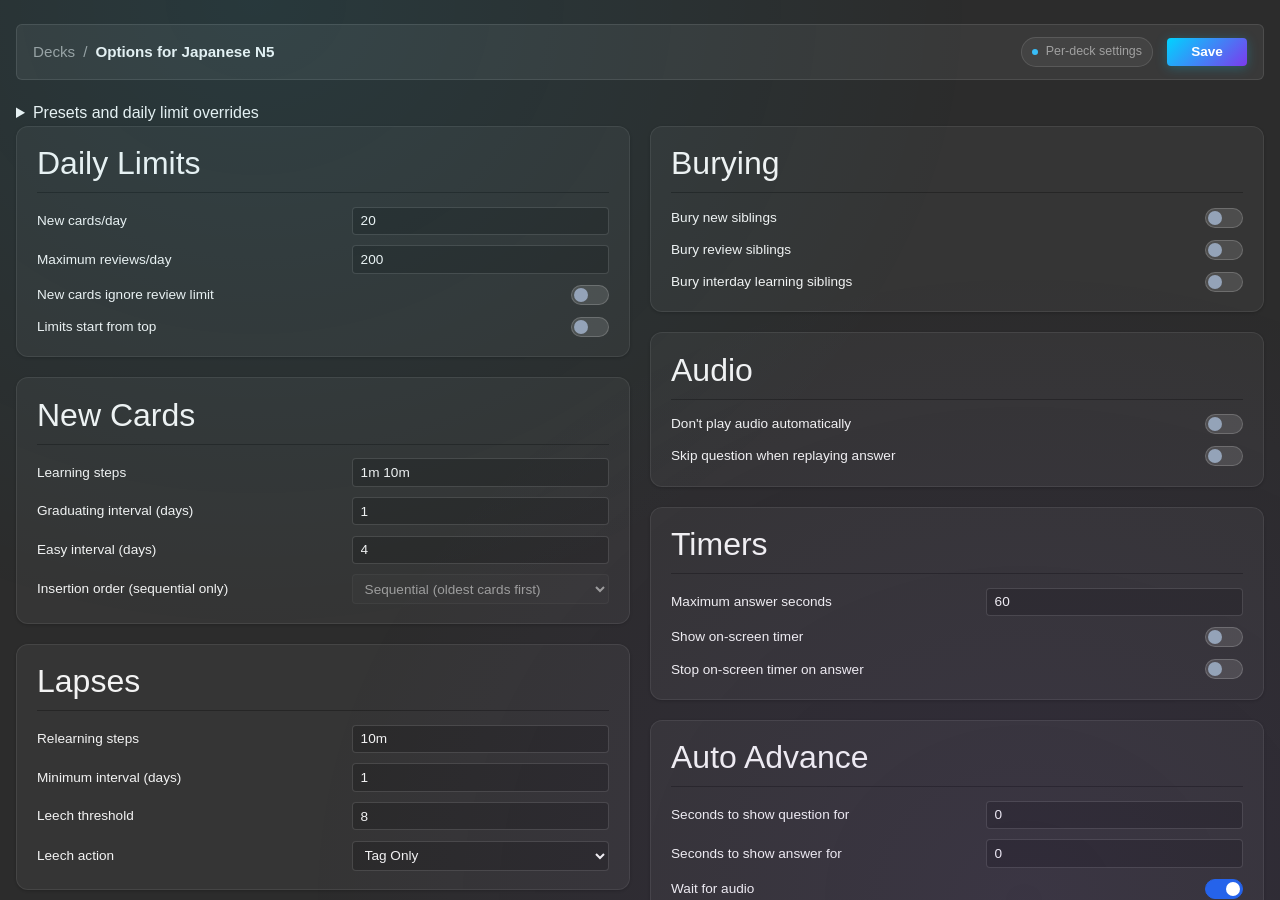
Test case: DeckOptionsPage Component › validates invalid numeric and step inputs, disabling save and displaying inline errors
Expected: the text "Options for Japanese N5" is shown, [95,40,274,64]
Expected: the button "Save" is enabled, [1167,38,1247,66]
Enter negative number for new_cards_per_day
Replace the text in the number field labelled "New cards/day" with "-5": x=480, y=221 [352,207,609,235]
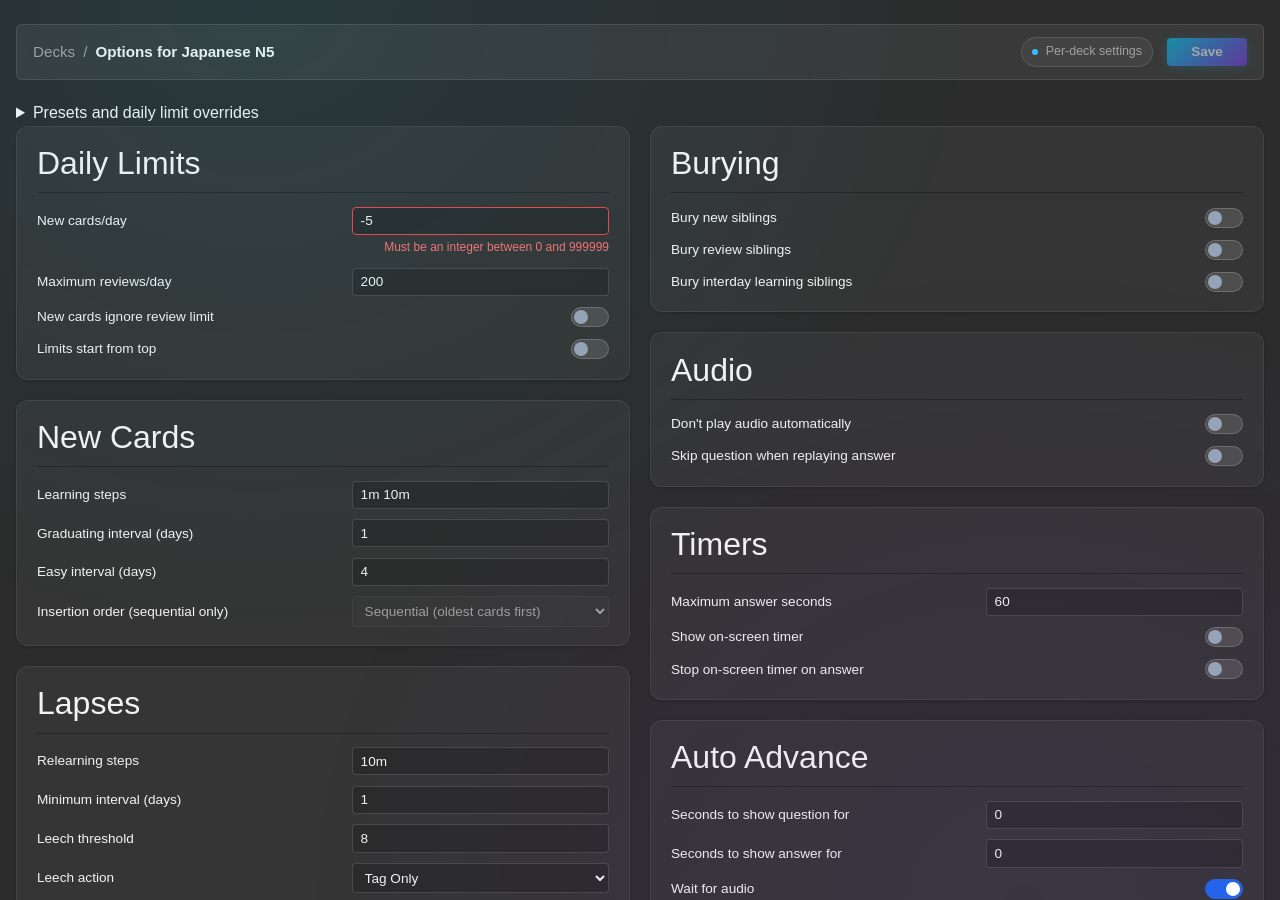
Expected: the text "Must be an integer between 0 and 999999" is shown, [384,238,609,257]
Expected: the button "Save" is disabled, [1167,38,1247,66]
Restore valid number
Replace the text in the number field labelled "New cards/day" with "25": x=480, y=221 [352,207,609,235]
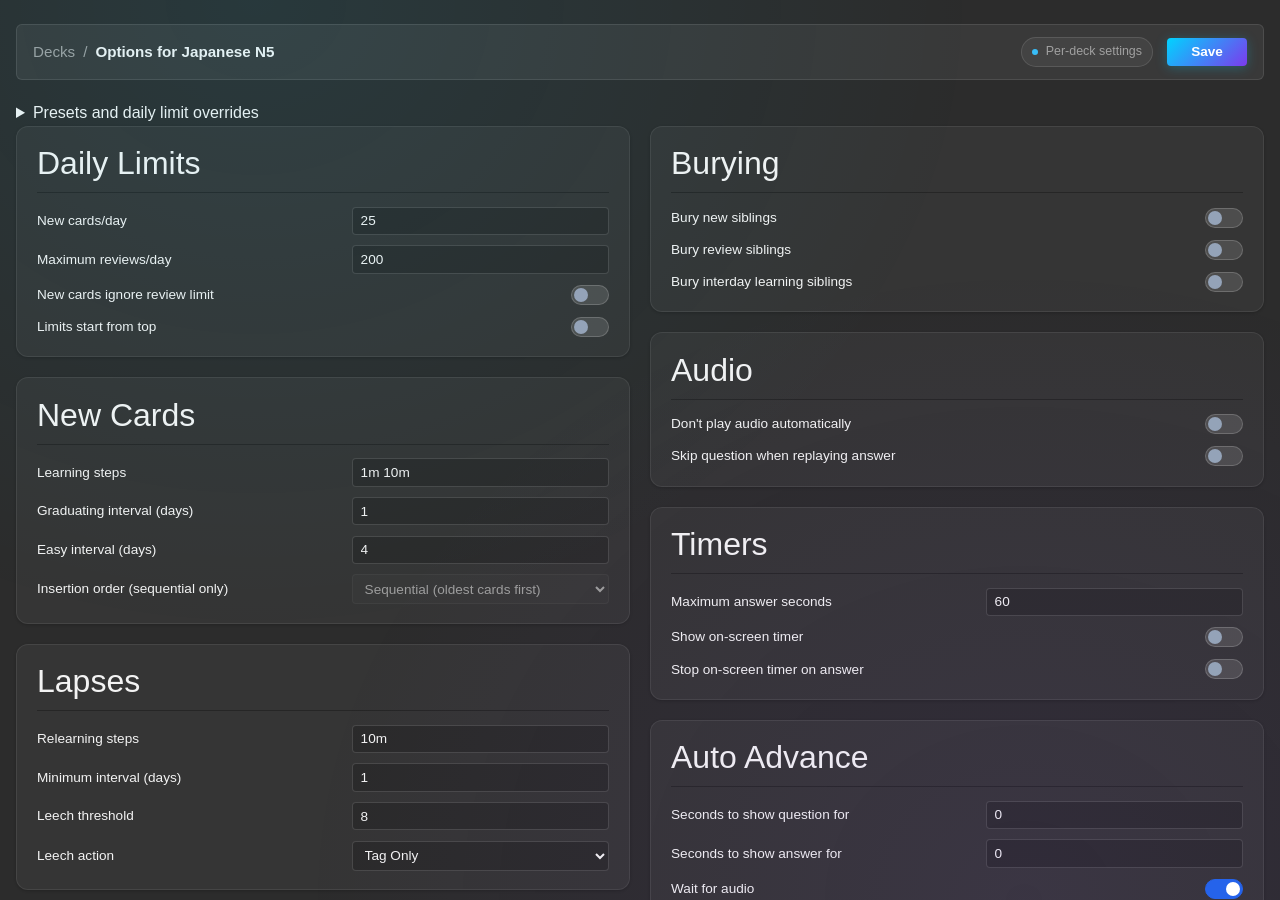
Expected: the text "Must be an integer between 0 and 999999" is gone
Expected: the button "Save" is enabled, [1167,38,1247,66]
Enter invalid step format for learning steps
Replace the text in the field labelled "Learning steps" with "invalid_interval": x=480, y=472 [352,458,609,486]
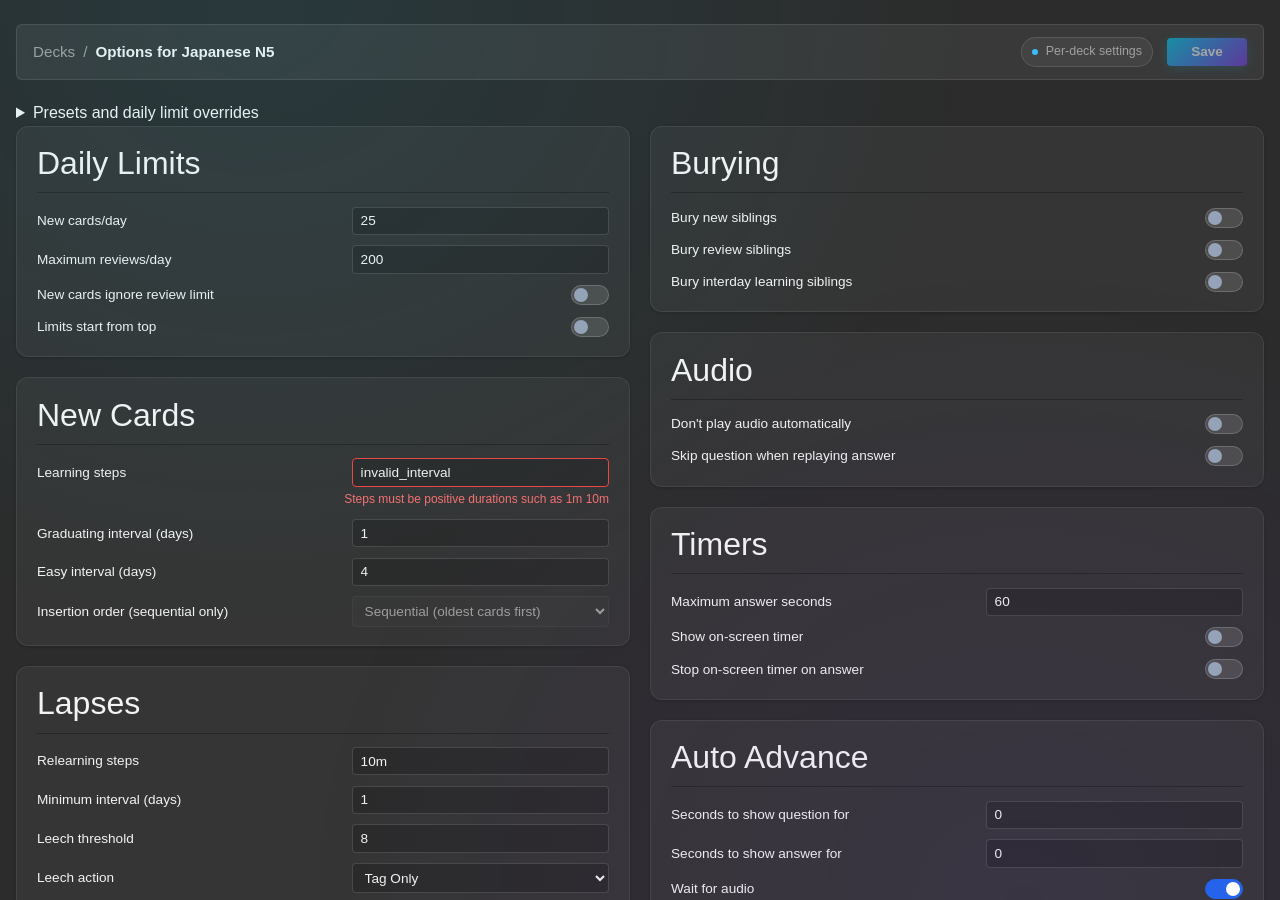
Expected: the text "Steps must be positive durations such as 1m 10m" is shown, [344,490,609,509]
Expected: the button "Save" is disabled, [1167,38,1247,66]
